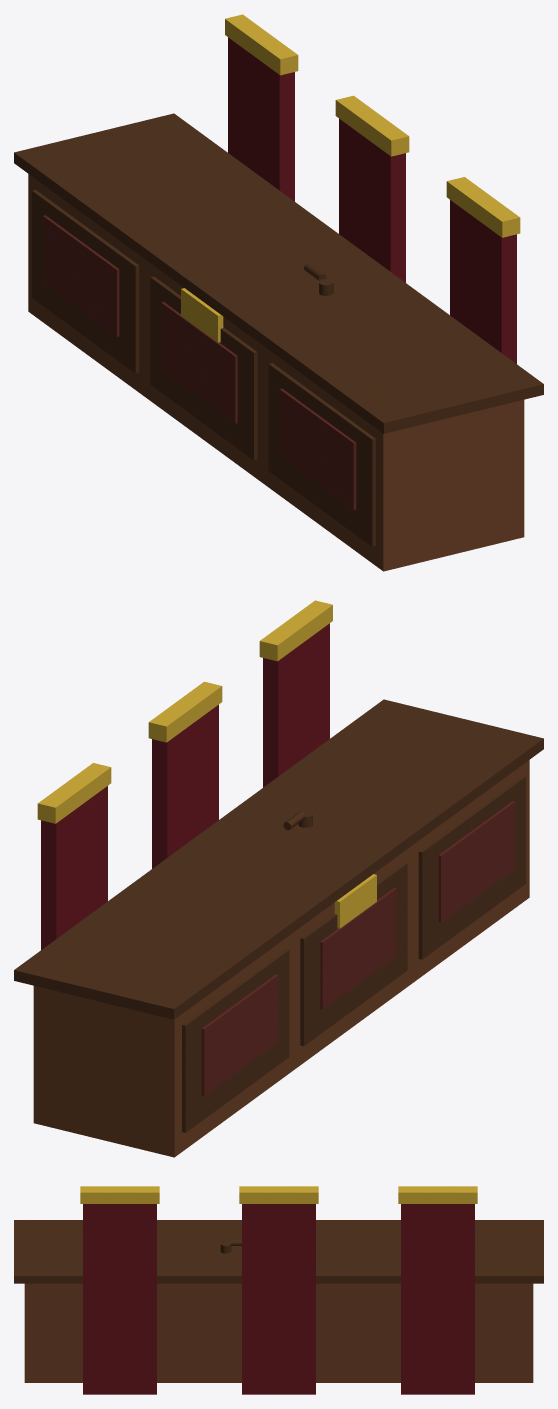
The model's file is judge-bench.glb.
The picture shows the model from 3 angles, top to bottom: view 1: azimuth 30°, elevation 25°; view 2: azimuth 150°, elevation 25°; view 3: azimuth 270°, elevation 25°; orthographic projection. The views are drawn at different scales.
Visible parts, largest first — view 1: Cube; view 2: Cube; view 3: Cube.
Part boxes in pixels (left/top/right/bottom): Cube: left=14, top=14, right=543, bottom=571; Cube: left=14, top=600, right=543, bottom=1157; Cube: left=14, top=1186, right=543, bottom=1394.
Bounding box in the file's own units: 0.6777 × 1 × 2.37.
1 material, 1 textured.
